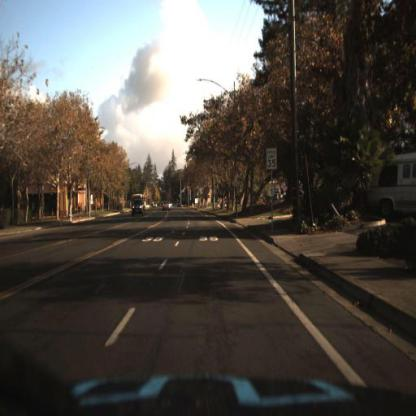car: (130, 199, 142, 217), (161, 198, 173, 214)
pedestrian: (79, 203, 84, 215)
truck: (368, 155, 416, 224), (131, 193, 145, 213)
